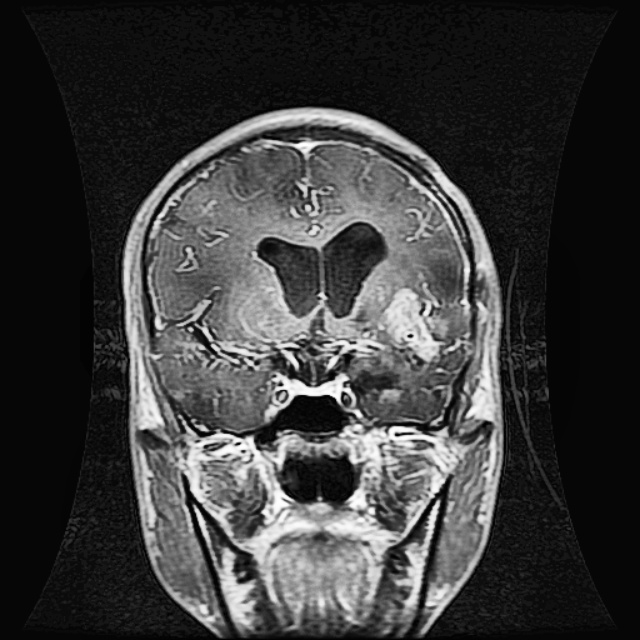Meningioma: (380, 283, 452, 363)
